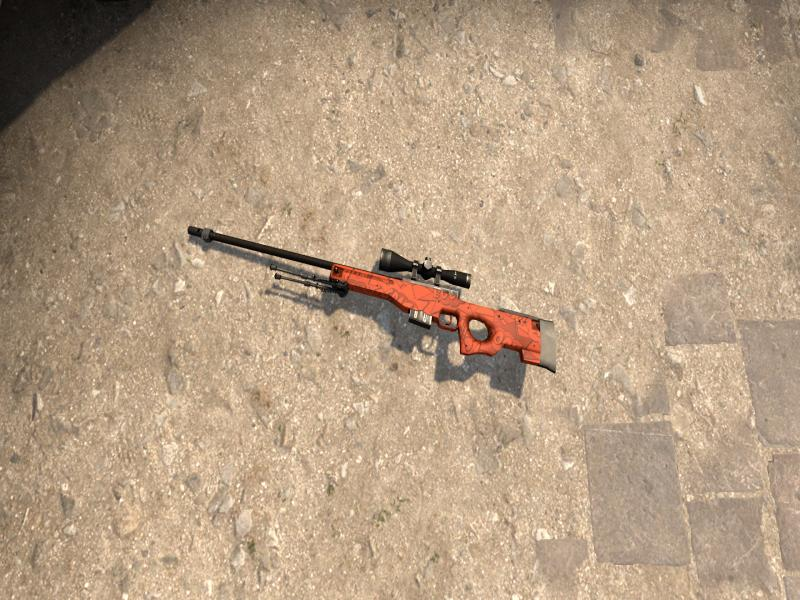AWP: (187, 225, 557, 372)
